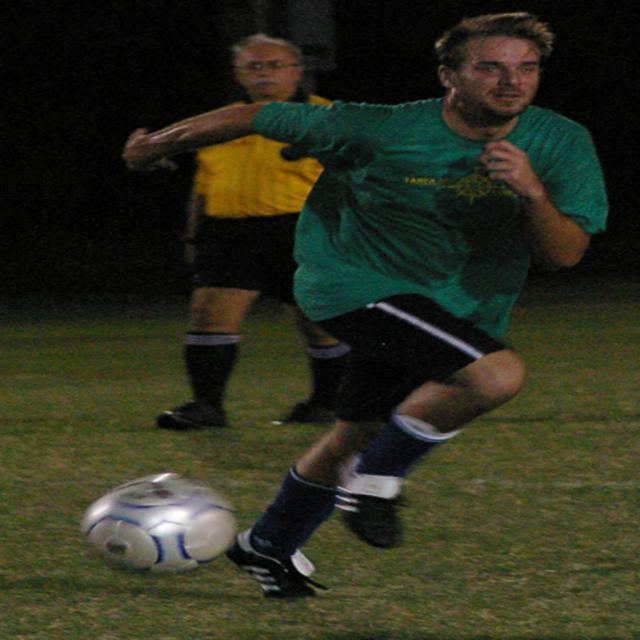football: (86, 462, 241, 605)
